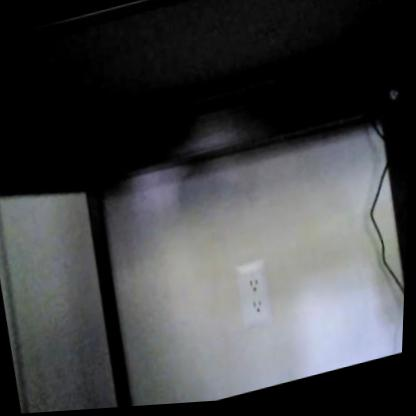OUTLET: (235, 258, 275, 332)
